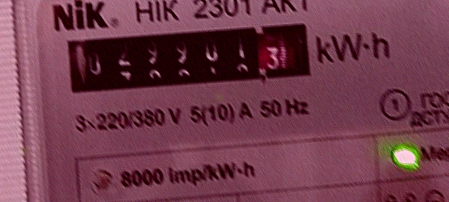0: (82, 48, 102, 76), (201, 34, 219, 64)
1: (232, 31, 247, 60)
2: (112, 40, 132, 68)
3: (262, 43, 280, 70)
9: (142, 38, 160, 66), (173, 37, 188, 65)
screen: (56, 13, 321, 103)
